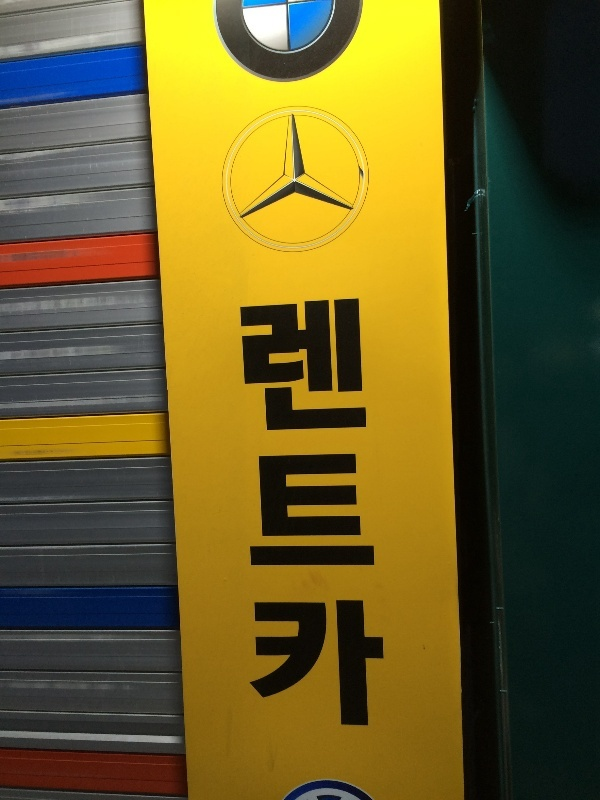text: (241, 296, 256, 736), (257, 296, 272, 736), (273, 296, 288, 736), (289, 296, 304, 736), (305, 296, 320, 736), (321, 296, 336, 736), (337, 296, 352, 736), (353, 296, 368, 736), (369, 296, 384, 736), (385, 296, 391, 736)
